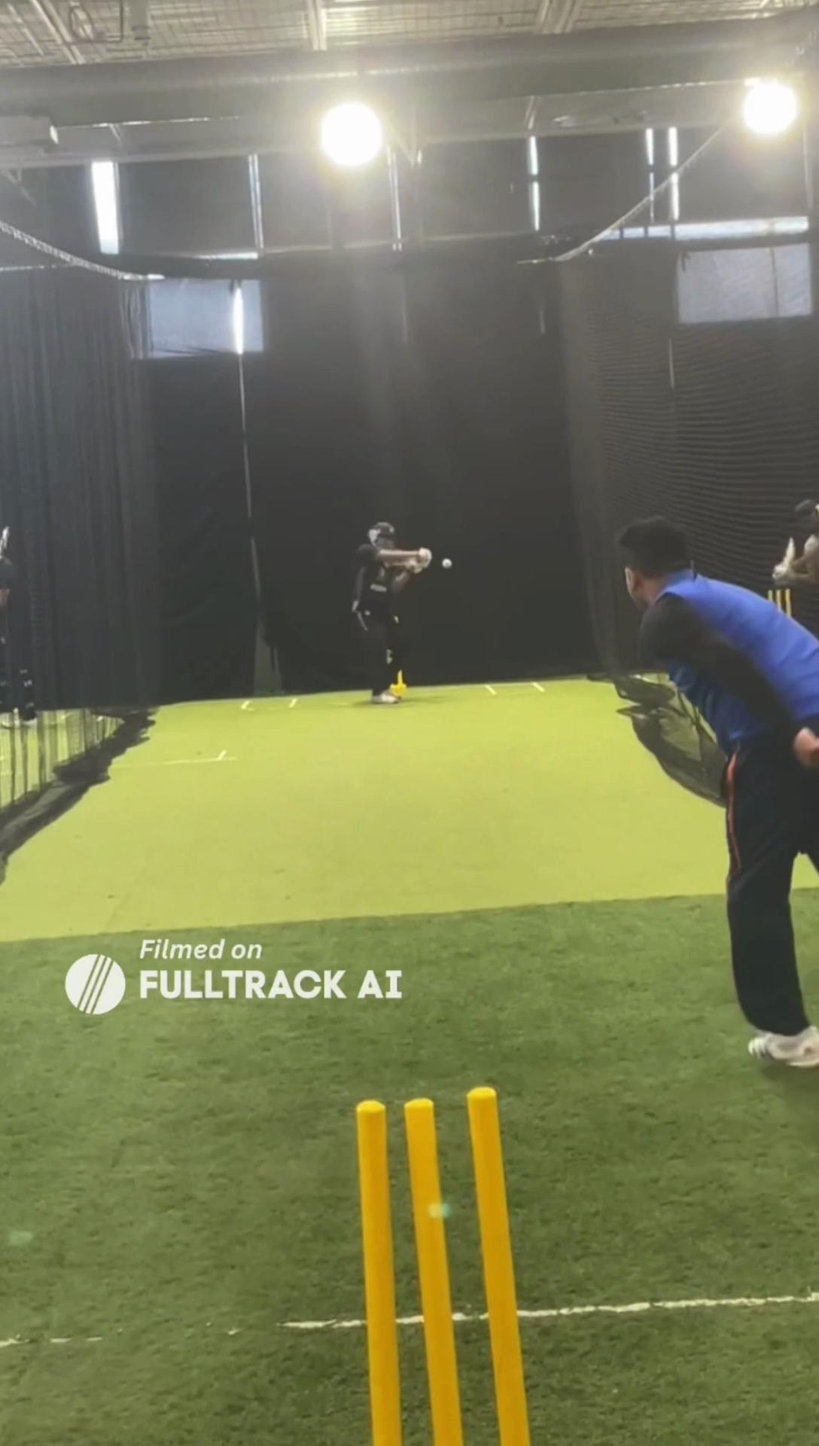ball: (440, 557, 454, 570)
